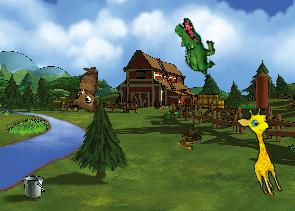crocodile: (161, 15, 229, 81)
giraffe: (234, 104, 293, 199)
owl: (70, 66, 98, 113)
